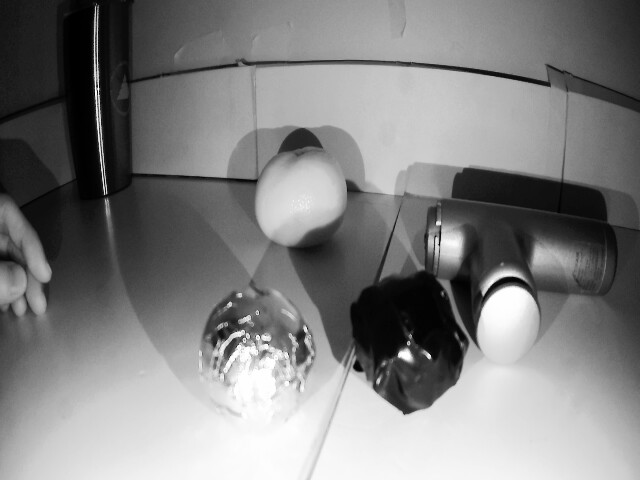black: (349, 258, 467, 408)
silver: (191, 290, 313, 418)
